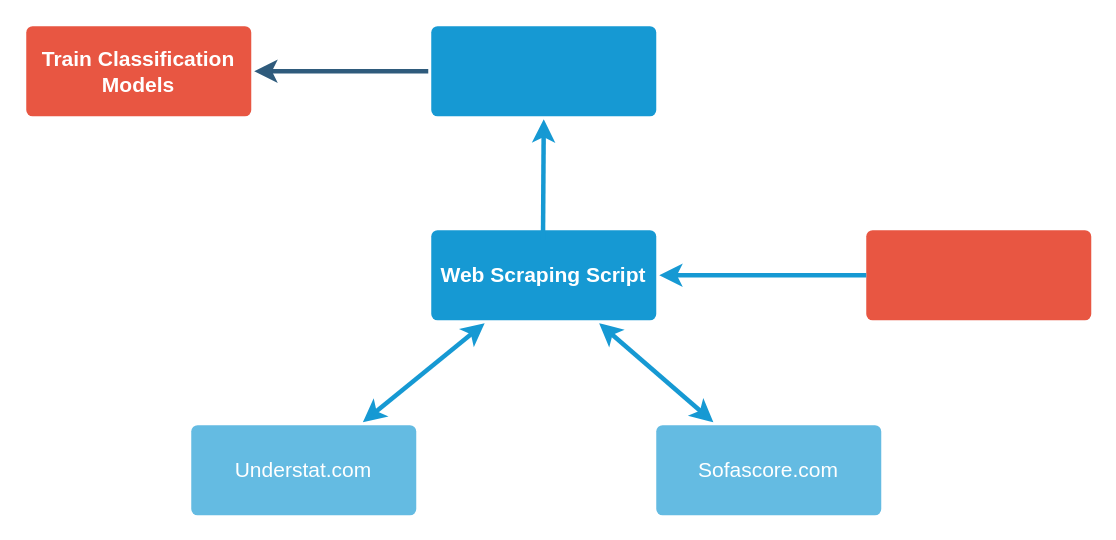
Some shapes in this 1116 by 540 pixel diagram are drawn without their labels. Here are the shapes that lost their labels. From the top down, the centre of each, then its label:
pixel 543 71: Save Data in CSV File
pixel 978 275: Season ID Week Number and Matches IDs
